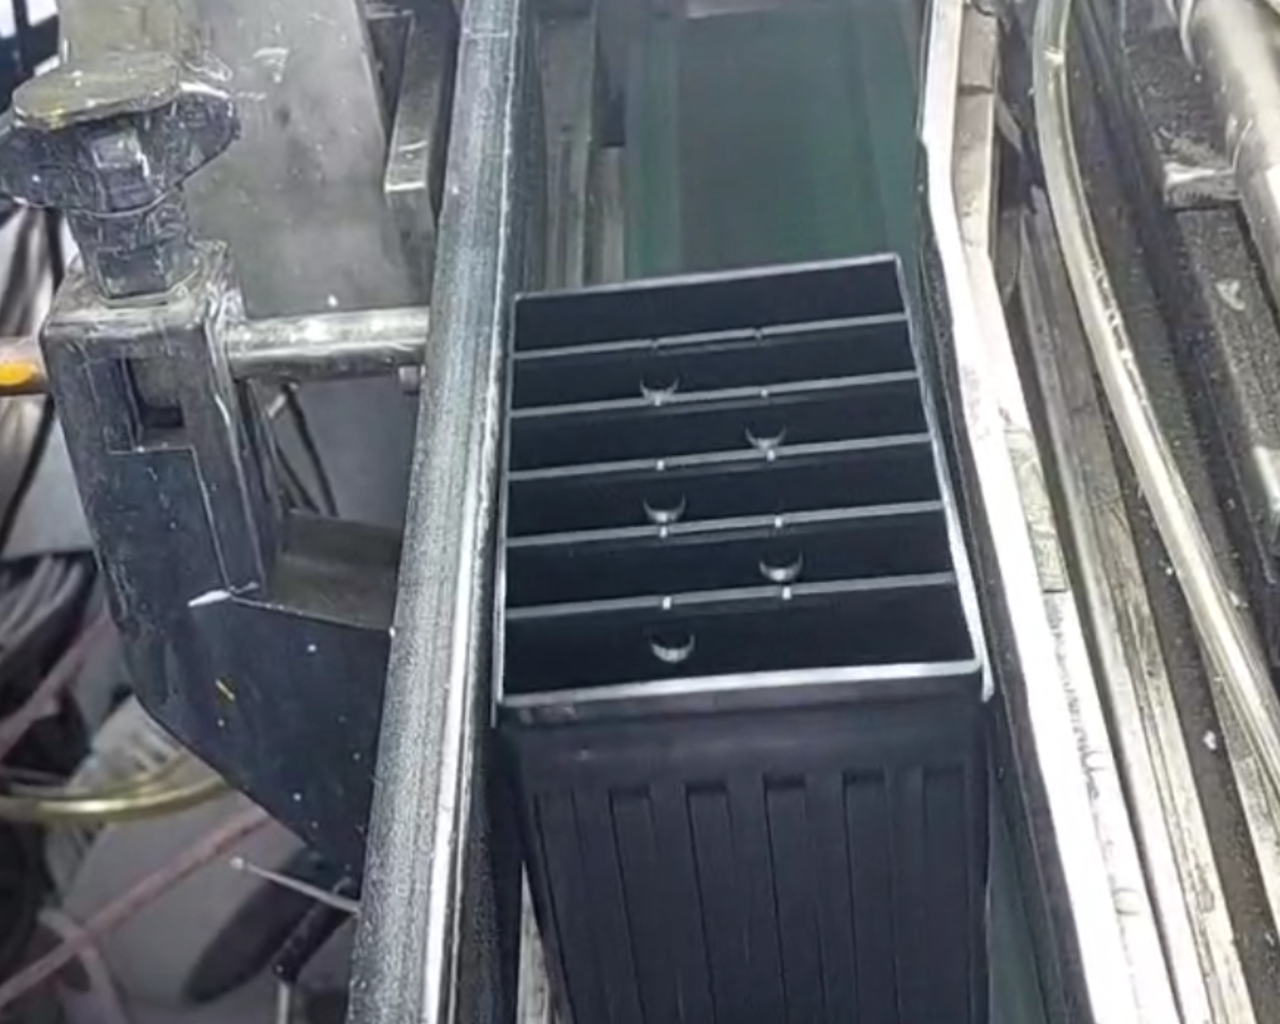box: (479, 239, 1005, 746)
round: (629, 471, 698, 533), (641, 611, 705, 669), (732, 400, 799, 455), (748, 534, 815, 587), (631, 354, 690, 403)
